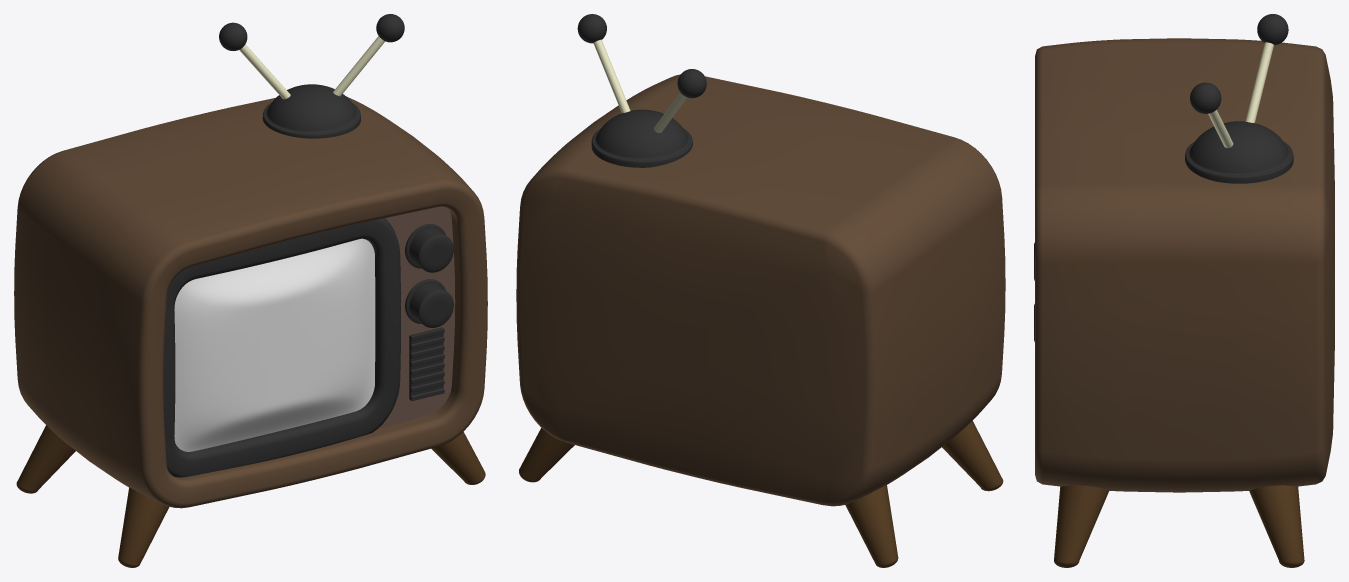
3 views of the same model, side by side, from view 1: azimuth 30°, elevation 25°; view 2: azimuth 150°, elevation 25°; view 3: azimuth 270°, elevation 25° (orthographic). The views are drawn at different scales.
Visible parts, largest first — view 1: Cube, Plane, Cube.001, Sphere, Plane.001, Sphere.001, Cylinder, Sphere.002, Cube.002; view 2: Cube, Sphere, Sphere.001, Sphere.002; view 3: Cube, Sphere, Sphere.001, Sphere.002.
Boxes of the visible parts, x1,y1,x2,y2 form: Cube: [14, 96, 487, 508]; Plane: [174, 238, 375, 451]; Cube.001: [163, 218, 400, 477]; Sphere: [16, 425, 485, 567]; Plane.001: [378, 206, 455, 428]; Sphere.001: [262, 84, 360, 138]; Cylinder: [405, 223, 453, 327]; Sphere.002: [219, 14, 404, 99]; Cube.002: [409, 327, 444, 400]; Cube: [516, 74, 1005, 506]; Sphere: [519, 420, 1003, 567]; Sphere.001: [591, 109, 692, 167]; Sphere.002: [577, 14, 706, 132]; Cube: [1035, 38, 1334, 492]; Sphere: [1054, 485, 1304, 567]; Sphere.001: [1185, 121, 1293, 183]; Sphere.002: [1190, 14, 1288, 148].
Size of the model in its own units: 133 by 149 by 85.88.
